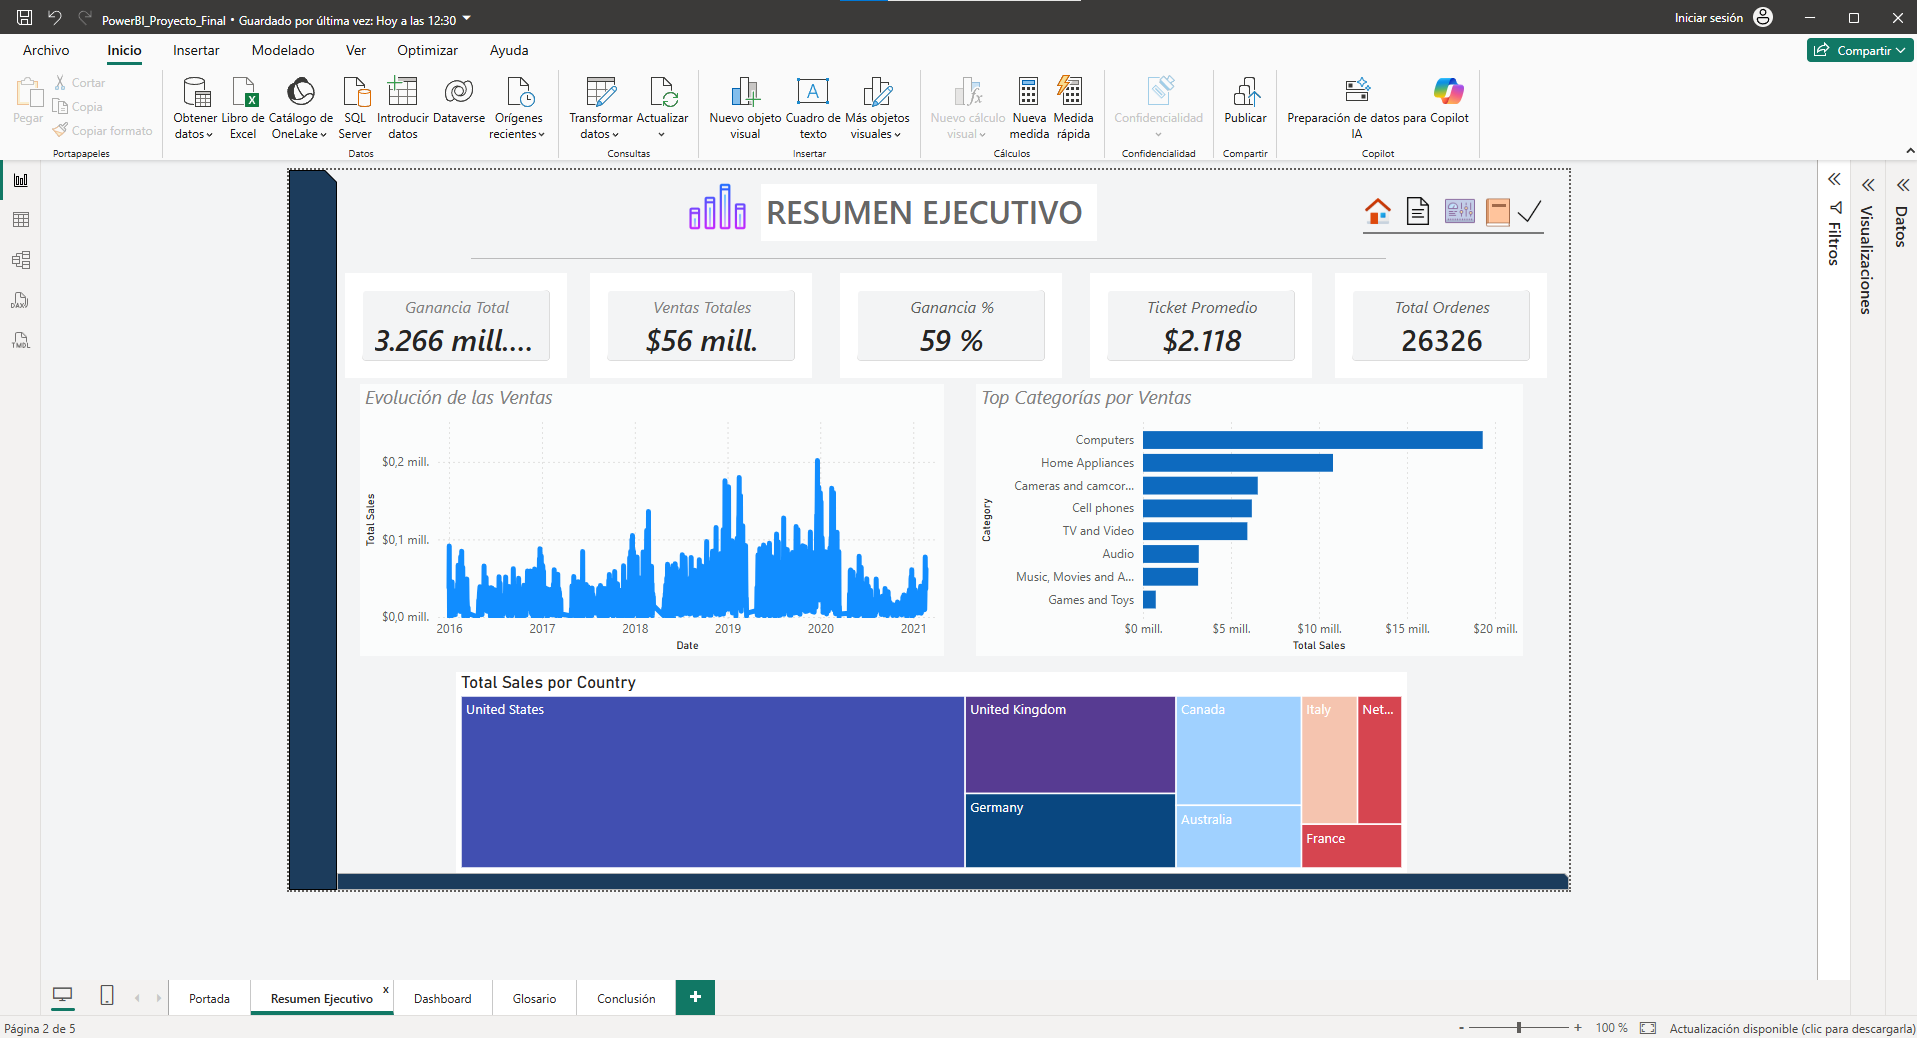

What the dashboard file says about the page in this screenshot:
{"tool":"powerbi","page":{"name":"Resumen Ejecutivo","canvas":[1280,720],"ordinal":1},"visuals":[{"type":"cardVisual","fields":{"Data":["Sales_CLEAN.Total Sales"]},"box":[300.5,103.1,222.7,105],"z":0},{"type":"cardVisual","fields":{"Data":["Sales_CLEAN.Total Profit"]},"box":[56.4,103.1,221.8,105],"z":1000},{"type":"cardVisual","fields":{"Data":["Sales_CLEAN.Profit Margin %"]},"box":[551.5,103.1,221.8,105],"z":2000},{"type":"cardVisual","fields":{"Data":["Sales_CLEAN.Total Orders"]},"box":[1045.6,103.1,212,105],"z":3000},{"type":"cardVisual","fields":{"Data":["Sales_CLEAN.Average Order Value"]},"box":[801.5,103.1,221.8,105],"z":4000},{"type":"textbox","box":[471.7,13.6,336.5,57.4],"z":5000},{"type":"image","box":[378.4,1.9,100.2,69.1],"z":6000},{"type":"shape","box":[181.9,13.6,915.3,149.8],"z":7000},{"type":"lineChart","title":"Evolución de las Ventas","fields":{"Category":["Calendario.Date.Variación.Jerarquía de fechas.Año"],"Y":["Sales_CLEAN.Total Sales"]},"box":[71,214,583.6,272.3],"z":8000},{"type":"barChart","title":"Top Categorías por Ventas","fields":{"Y":["Sales_CLEAN.Total Sales"],"Category":["Products_CLEAN.Category"]},"box":[686.7,214,547.6,272.3],"z":9000},{"type":"treemap","fields":{"Values":["Sales_CLEAN.Total Sales"],"Group":["Cusstomers_CLEAN.Country"]},"box":[167.3,501.9,950.3,201.3],"z":10000},{"type":"shape","box":[0,0,47.7,719.8],"z":11000},{"type":"shape","box":[47.7,703.2,1232.3,16.5],"z":12000},{"type":"image","box":[1074.2,20.6,30.1,41],"z":13000},{"type":"image","box":[1113.8,19.5,30.1,41],"z":14000},{"type":"image","box":[1193.4,22.1,30.1,41],"z":15000},{"type":"image","box":[1225.4,20,30.1,41],"z":16000},{"type":"image","box":[1155.6,19.9,30.1,42],"z":17000},{"type":"shape","box":[1074.2,54.5,181.1,16.5],"z":18000}]}

Visuals, with their boxes on the page's 1280x720 design canvas (x1, y1, x2, y2). These are canvas units, not pixel positions in the 1917x1038 screenshot, which may show the page scaled, cropped or inside an application window:
cardVisual - Sales_CLEAN.Total Sales: box(300, 103, 523, 208)
cardVisual - Sales_CLEAN.Total Profit: box(56, 103, 278, 208)
cardVisual - Sales_CLEAN.Profit Margin %: box(552, 103, 773, 208)
cardVisual - Sales_CLEAN.Total Orders: box(1046, 103, 1258, 208)
cardVisual - Sales_CLEAN.Average Order Value: box(802, 103, 1023, 208)
textbox: box(472, 14, 808, 71)
image: box(378, 2, 479, 71)
shape: box(182, 14, 1097, 163)
"Evolución de las Ventas" lineChart: box(71, 214, 655, 486)
"Top Categorías por Ventas" barChart: box(687, 214, 1234, 486)
treemap - Sales_CLEAN.Total Sales x Cusstomers_CLEAN.Country: box(167, 502, 1118, 703)
shape: box(0, 0, 48, 720)
shape: box(48, 703, 1280, 720)
image: box(1074, 21, 1104, 62)
image: box(1114, 20, 1144, 60)
image: box(1193, 22, 1224, 63)
image: box(1225, 20, 1256, 61)
image: box(1156, 20, 1186, 62)
shape: box(1074, 54, 1255, 71)
